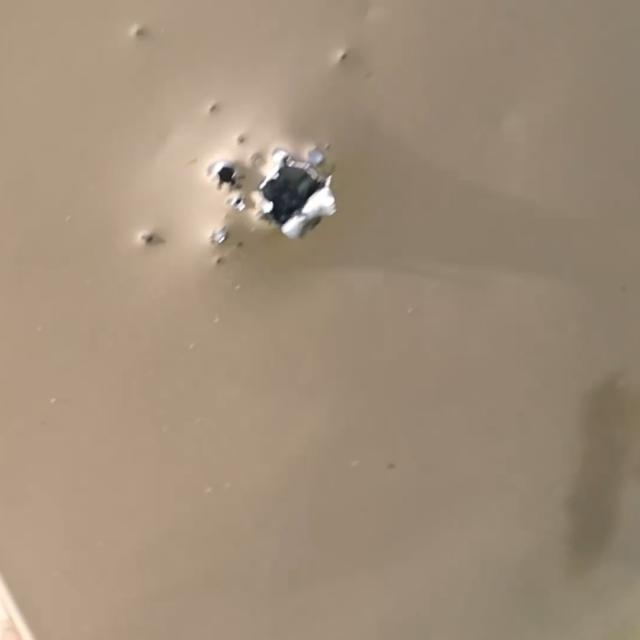bullets: (211, 161, 243, 190)
